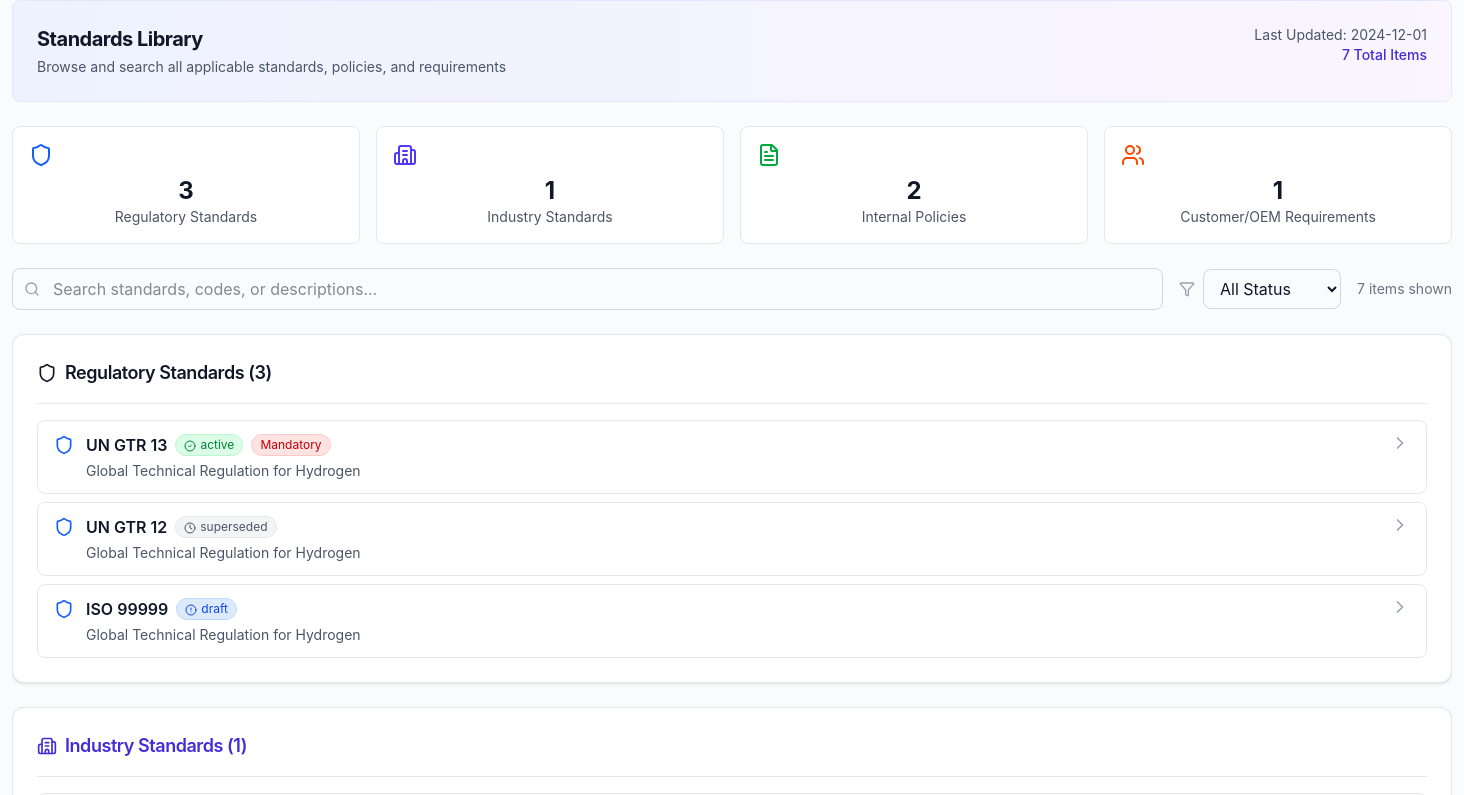
Scenario: StandardsLibraryPanel › Category Filtering › should filter to regulatory when clicked
This screenshot has width=1464, height=795.
Step 1. Click the button "3 Regulatory Standards" → (186, 185), box [12,126,360,244]
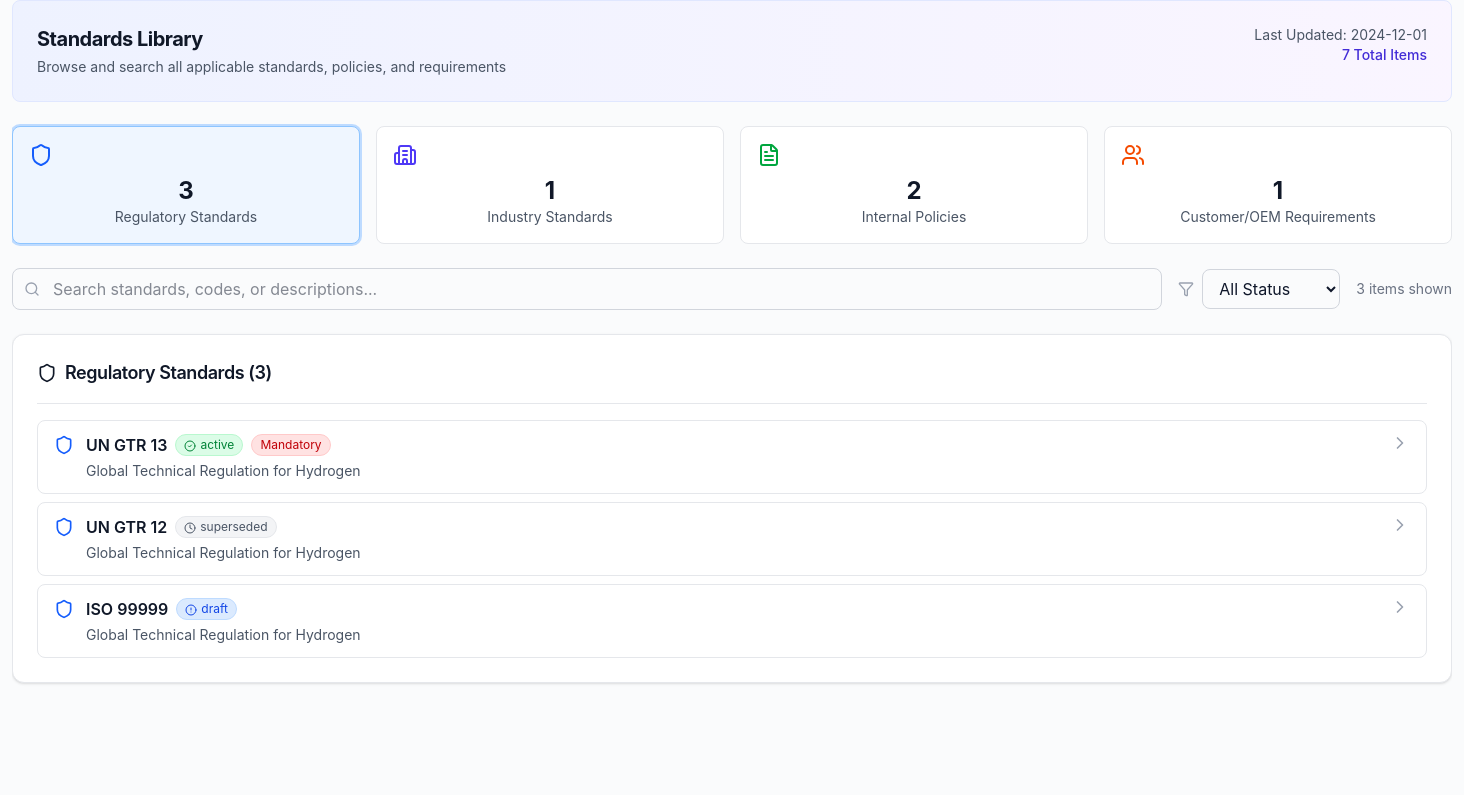
expect the text "UN GTR 13" is shown: met, box [86,433,167,457]
expect the heading "Industry Standards (1)" is gone: met
